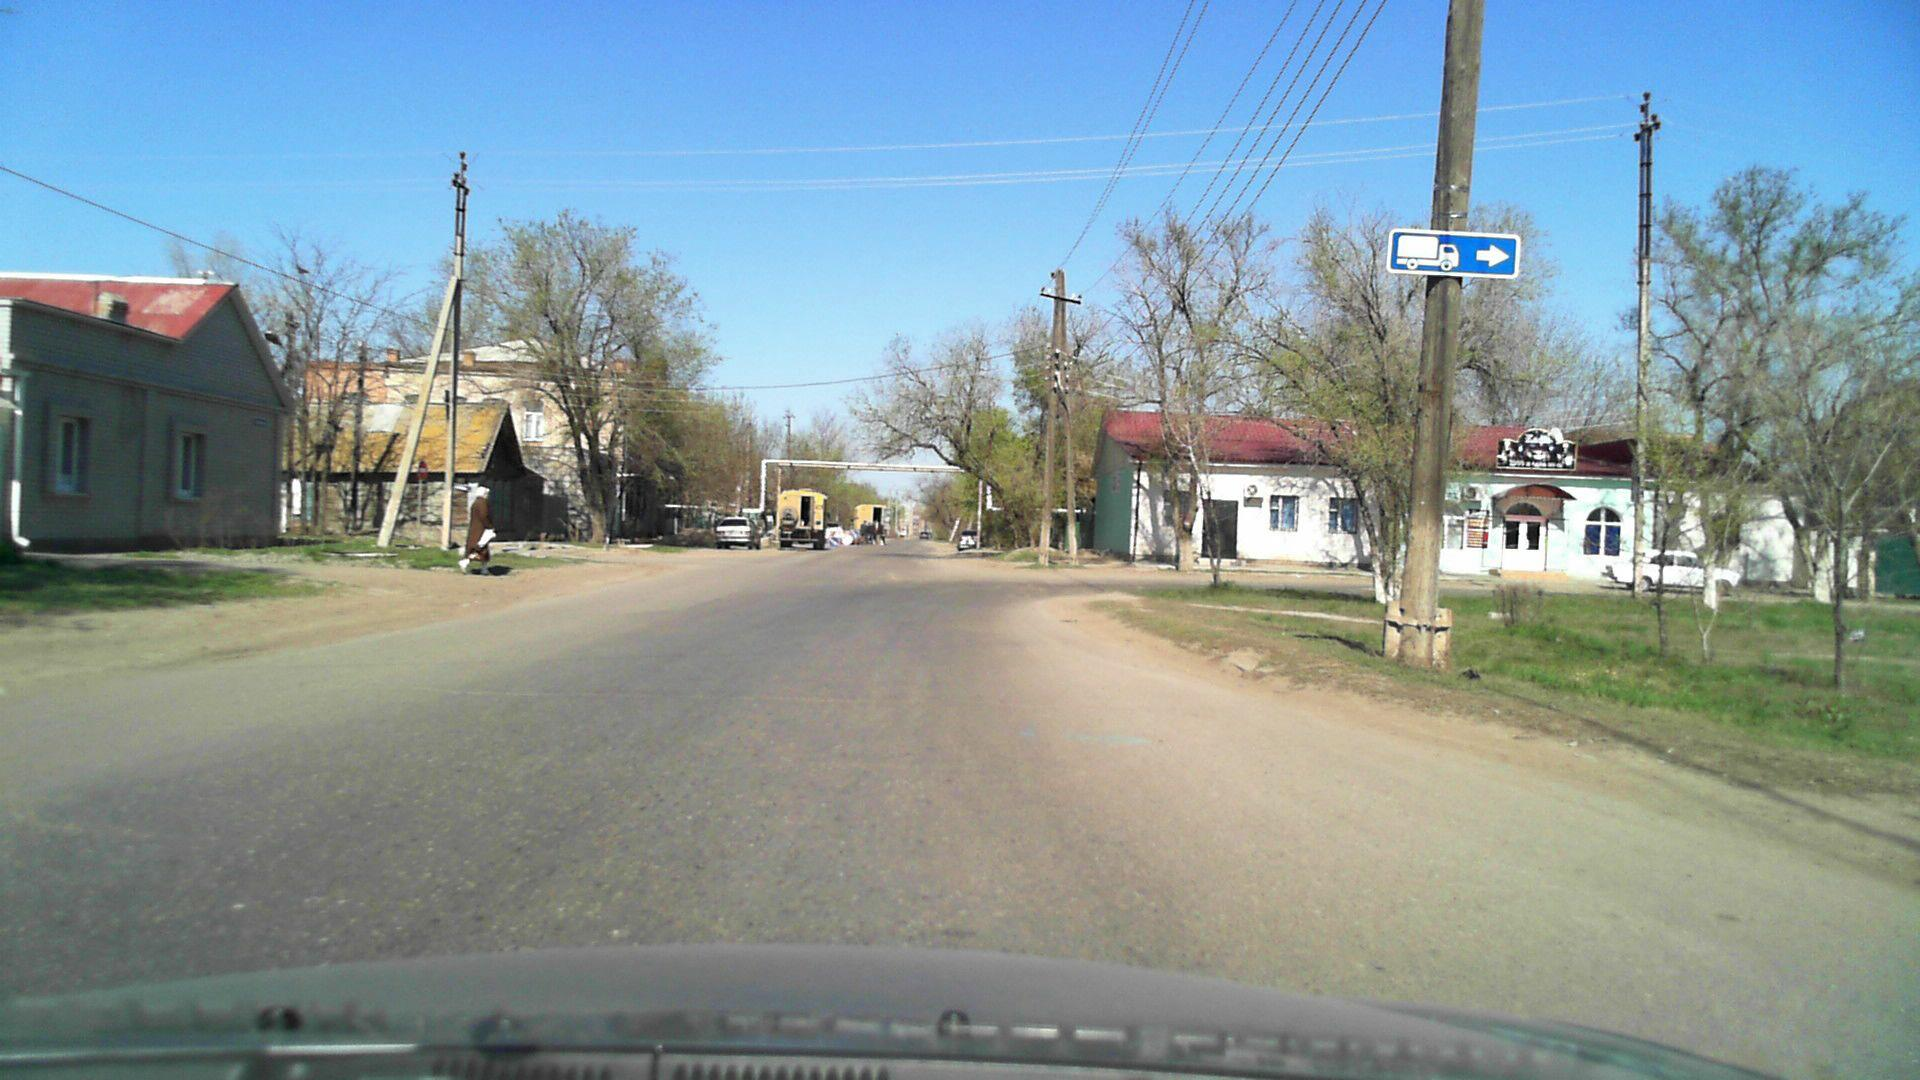6_15_2: (1389, 228, 1520, 280)
